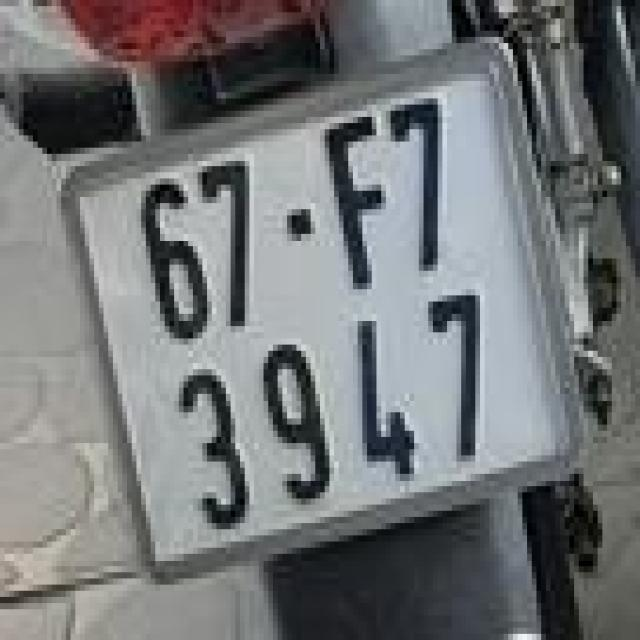3: (165, 351, 270, 543)
4: (341, 306, 432, 490)
6: (132, 165, 220, 355)
7: (380, 80, 471, 286), (186, 141, 277, 340), (417, 275, 505, 471)
9: (250, 320, 355, 518)
F: (309, 103, 403, 304)
